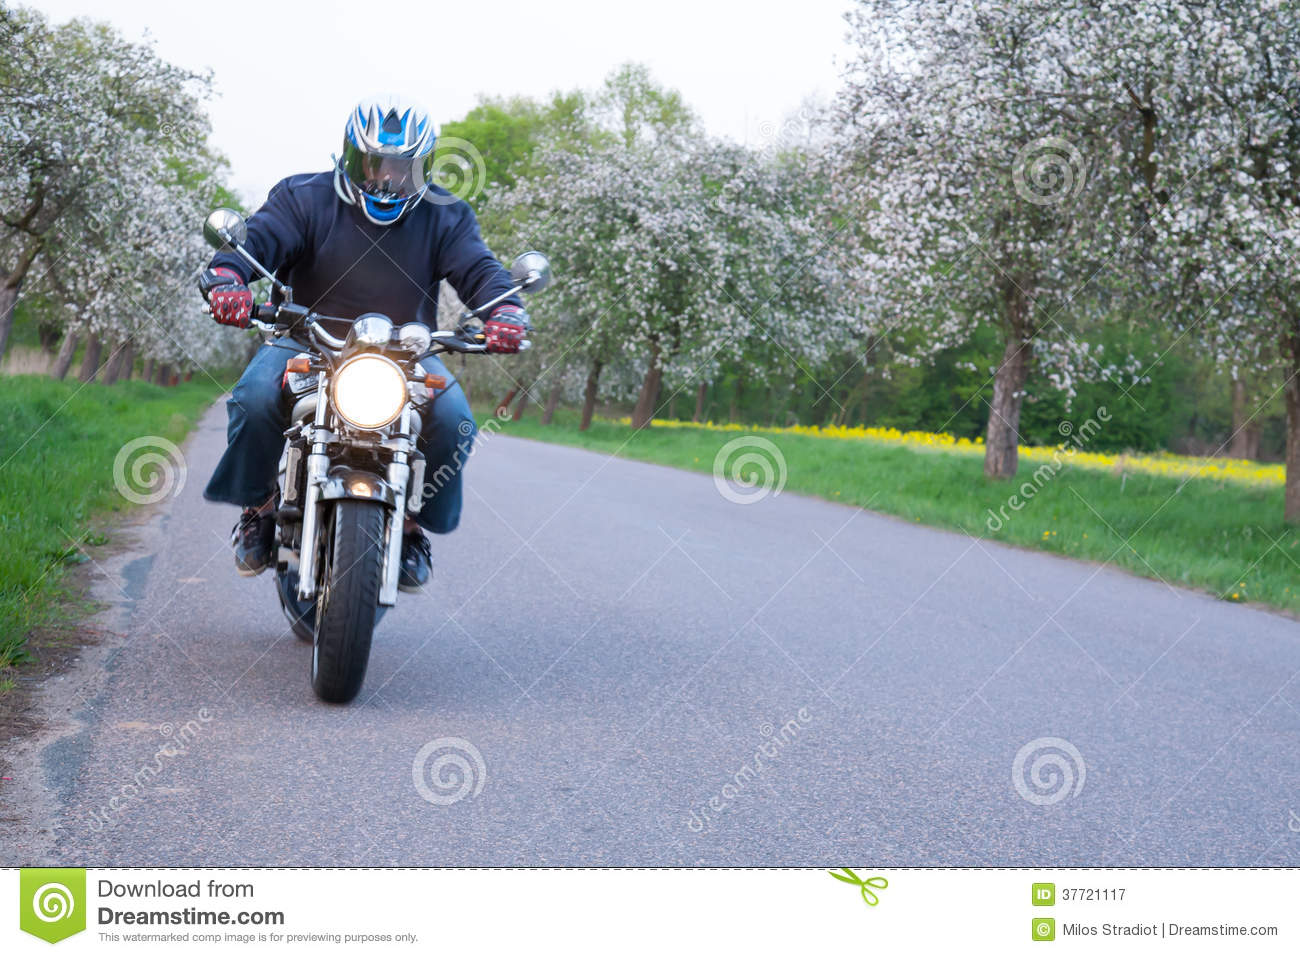helmet: (336, 96, 436, 232)
